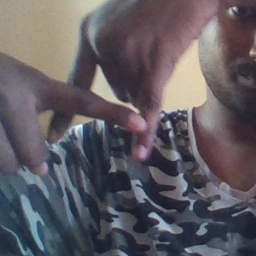H: (35, 33, 179, 165)
